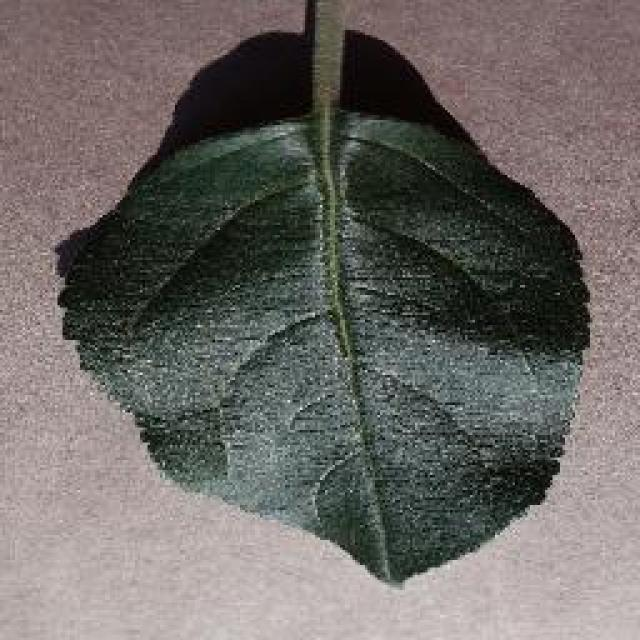apple healthy: (52, 18, 592, 588)
